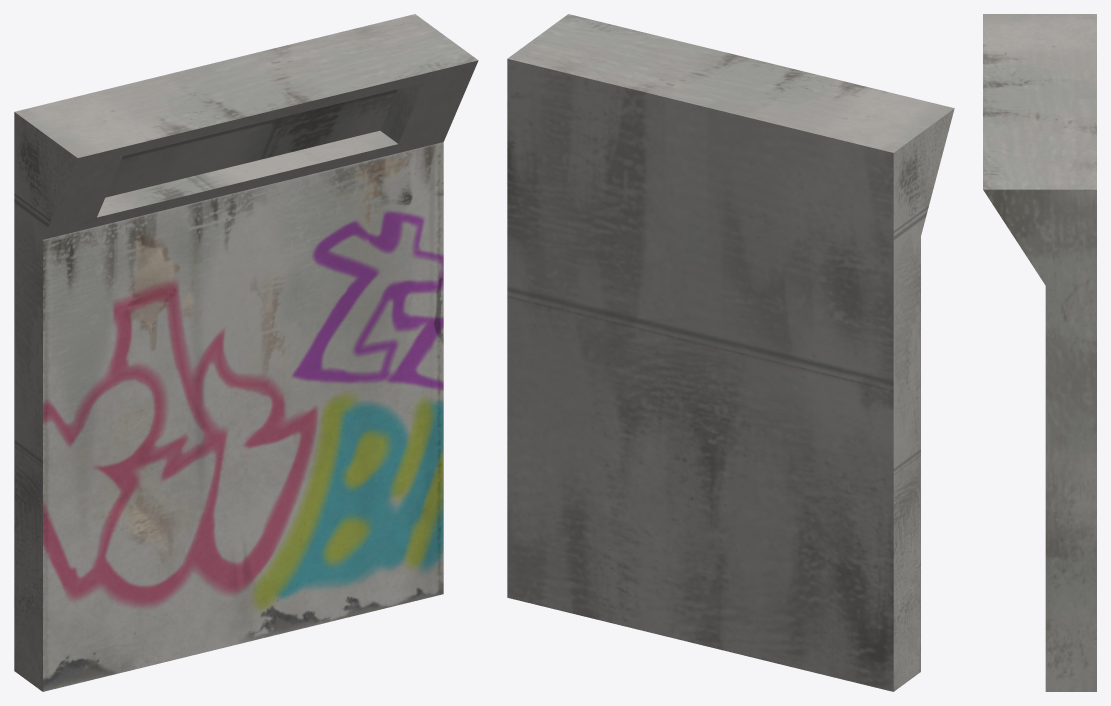
Rendered from wall_03.fbx.
3 views of the same model, side by side, from view 1: azimuth 30°, elevation 25°; view 2: azimuth 150°, elevation 25°; view 3: azimuth 270°, elevation 25° (orthographic). The views are drawn at different scales.
Parts seen in each view (by area): view 1: wall_003; view 2: wall_003; view 3: wall_003.
Boxes of the visible parts, box(x1,y1,x2,y2) form: wall_003: box(14, 14, 478, 691); wall_003: box(507, 14, 954, 691); wall_003: box(983, 14, 1096, 691).
Size of the model in its own units: 300 by 400 by 82.21.
